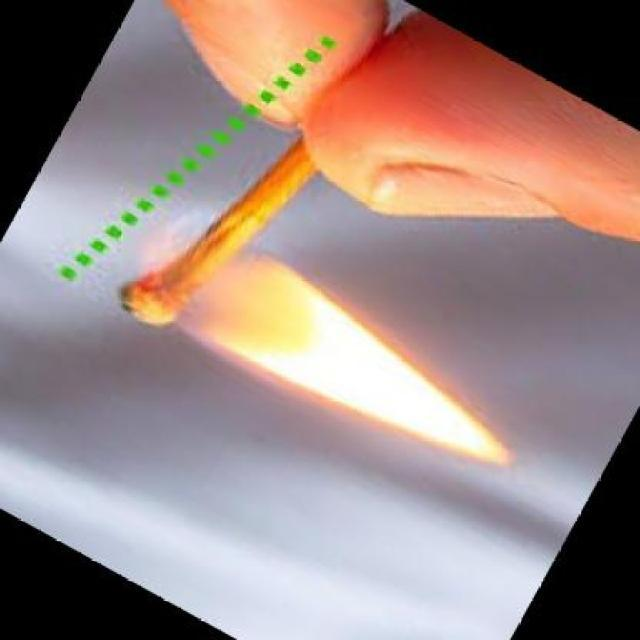Fire: (179, 247, 516, 470)
